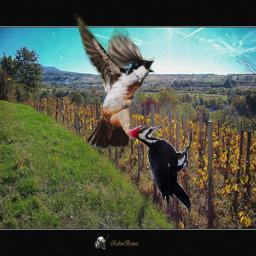Swallow: (73, 12, 155, 148)
Woodpecker: (125, 125, 194, 216)
